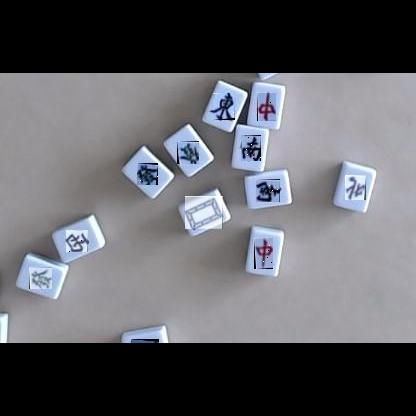1z: (213, 93, 235, 120), (131, 339, 159, 343)
2z: (256, 179, 280, 202), (241, 135, 261, 161)
3z: (66, 230, 88, 252)
4z: (345, 175, 366, 200)
5z: (185, 196, 223, 229)
6z: (177, 141, 199, 164), (29, 267, 52, 289), (137, 163, 158, 185)
7z: (254, 238, 273, 269), (257, 92, 276, 121)
